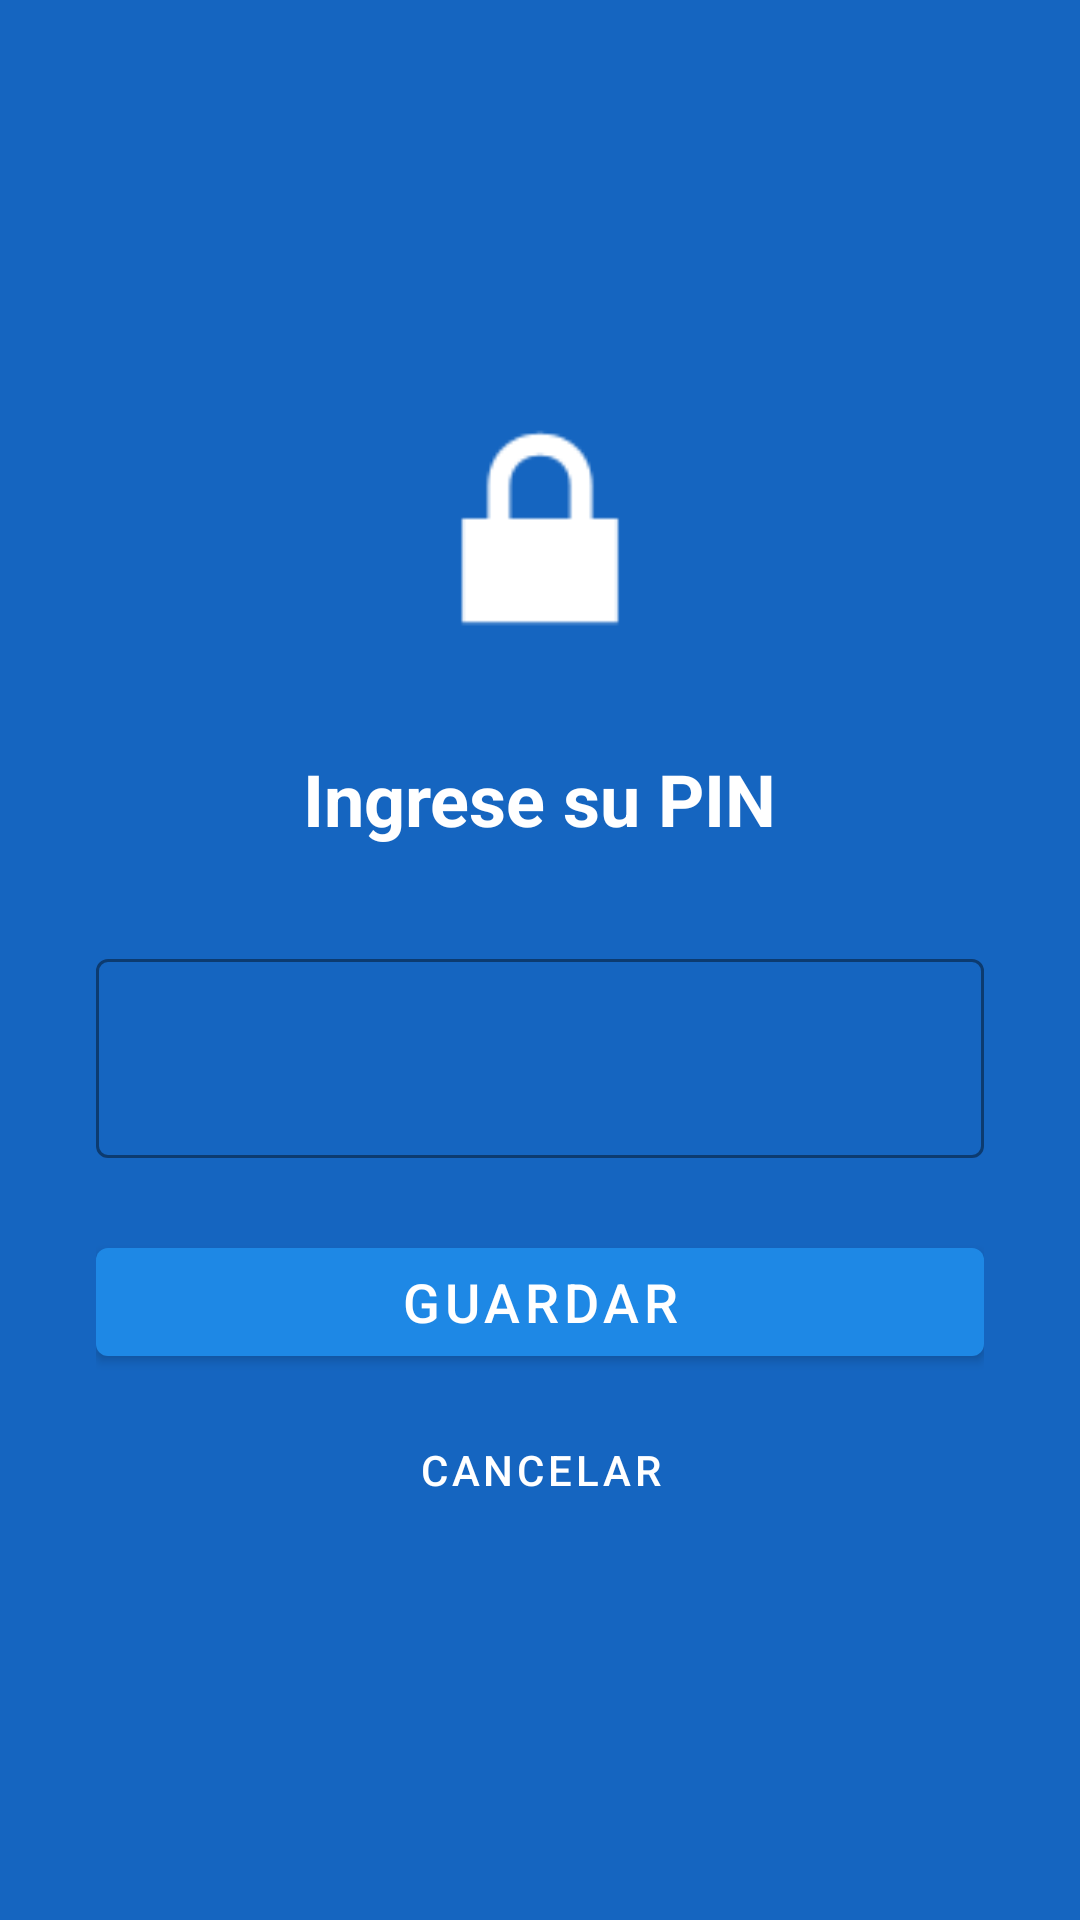

Icons on this 1080px×1920px Android screen, each with the point to tap as point (x, y):
lock: point (540, 528)
